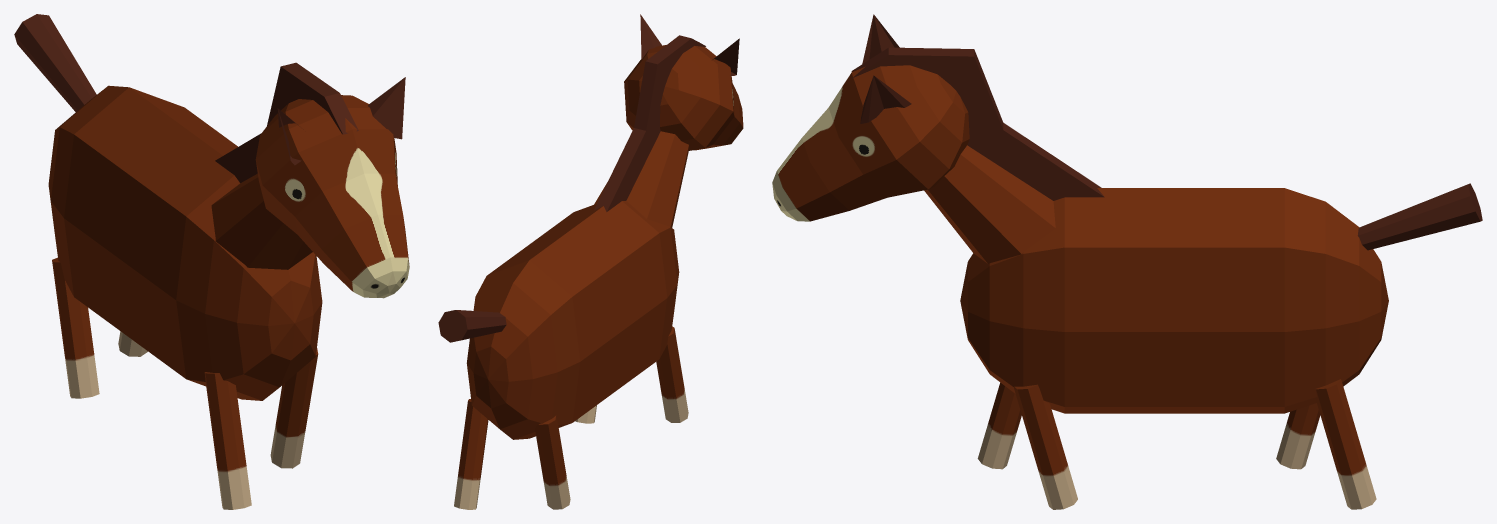
File: horse.glb
3 renders of one model, left to right at view 1: azimuth 30°, elevation 25°; view 2: azimuth 150°, elevation 25°; view 3: azimuth 270°, elevation 25°, orthographic. The views are drawn at different scales.
Visible parts, largest first — view 1: Body, Head, Neck, leg 1.001, Hair, Cylinder, leg 1.003, leg 1, Cone; view 2: Body, Head, Hair, Neck, leg 1.002, leg 1.003, leg 1.001, Cylinder, Cone, Cone.001; view 3: Body, Head, Hair, Neck, Cylinder, leg 1.002, leg 1, leg 1.001, leg 1.003, Cone, Cone.001.
Boxes of the visible parts, x1,y1,x2,y2 form: Body: (48, 85, 322, 400); Head: (255, 95, 409, 298); Neck: (211, 174, 312, 269); leg 1.001: (204, 372, 251, 509); Hair: (215, 62, 358, 182); Cylinder: (14, 14, 96, 111); leg 1.003: (52, 257, 99, 398); leg 1: (270, 348, 318, 468); Cone: (368, 77, 405, 139); Body: (466, 201, 679, 439); Head: (624, 42, 743, 150); Hair: (594, 35, 705, 211); Neck: (594, 131, 688, 227); leg 1.002: (454, 399, 488, 509); leg 1.003: (535, 416, 570, 509); leg 1.001: (656, 326, 688, 422); Cylinder: (438, 310, 506, 342); Cone: (640, 14, 661, 59); Cone.001: (712, 38, 739, 75); Body: (960, 188, 1388, 413); Head: (772, 65, 969, 221); Hair: (851, 47, 1104, 200); Neck: (924, 145, 1055, 264); Cylinder: (1357, 183, 1482, 250); leg 1.002: (1315, 379, 1376, 509); leg 1: (1014, 384, 1077, 509); leg 1.001: (977, 382, 1021, 469); leg 1.003: (1276, 403, 1320, 469); Cone: (860, 75, 911, 123); Cone.001: (862, 14, 899, 63).
Size of the model in its own units: 0.6028 by 1.93 by 2.81.
Materials: 4 (2 with a texture image).
